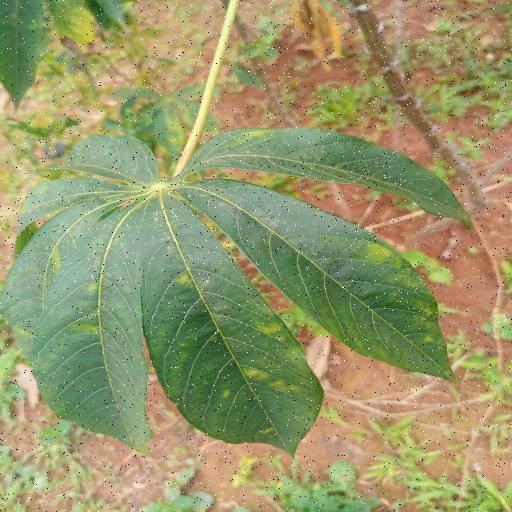Cassava_Mosaic: (0, 124, 472, 460)
